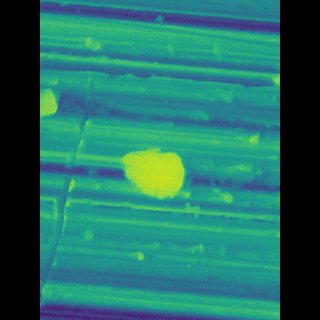Loch: (68, 32, 114, 303), (126, 143, 184, 205)
